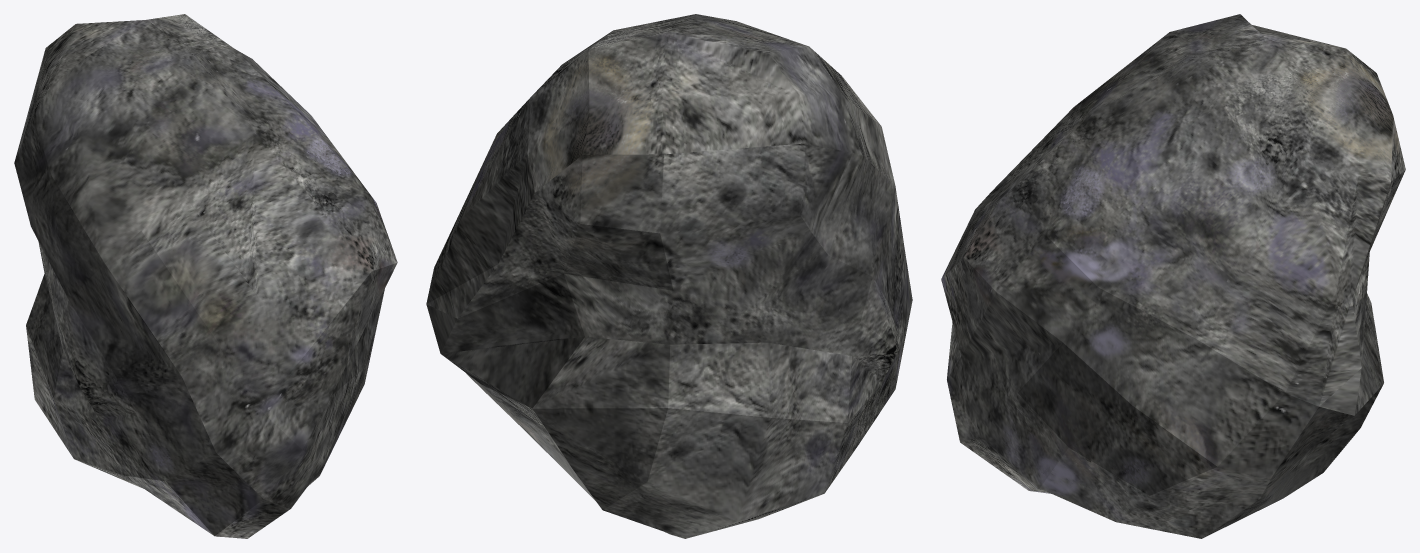
The model's file is asteroid-Bellamy_LOD1.fbx.
3 renders of one model, left to right at view 1: azimuth 30°, elevation 25°; view 2: azimuth 150°, elevation 25°; view 3: azimuth 270°, elevation 25°, orthographic. The views are drawn at different scales.
Visible parts, largest first — view 1: 07-asteroid_LOD1; view 2: 07-asteroid_LOD1; view 3: 07-asteroid_LOD1.
Boxes of the visible parts, x1,y1,x2,y2 form: 07-asteroid_LOD1: (14, 14, 397, 538); 07-asteroid_LOD1: (426, 14, 912, 538); 07-asteroid_LOD1: (941, 14, 1405, 538).
Size of the model in its own units: 31495 by 41565 by 37341.
